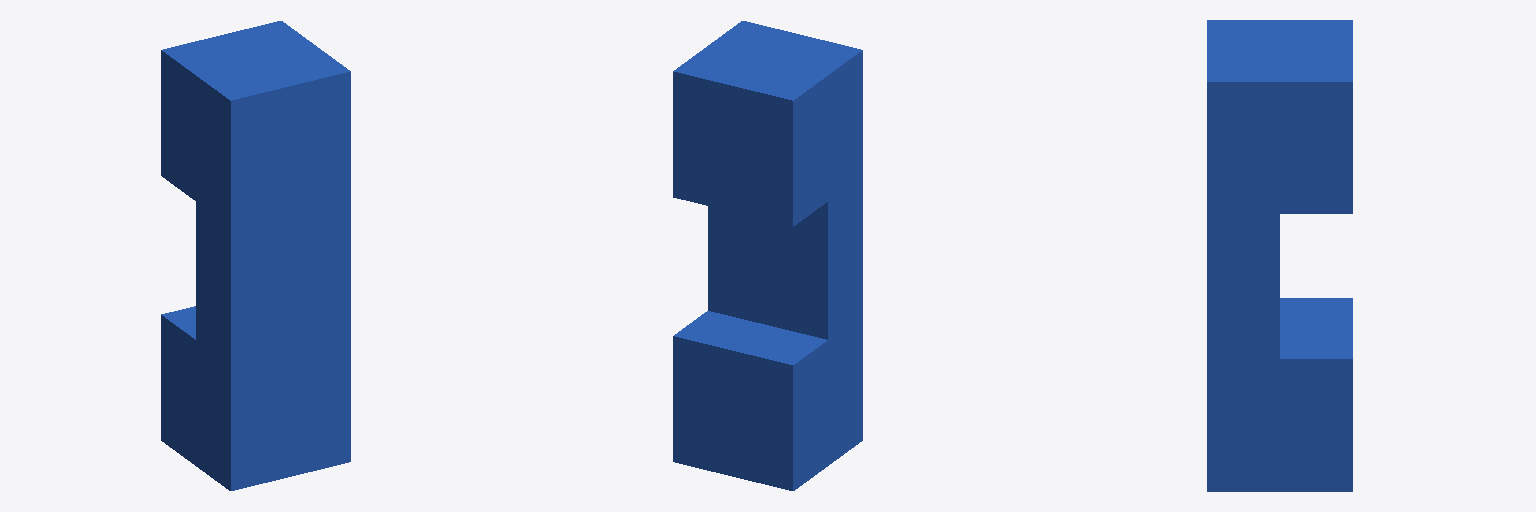
robot.urdf — obj_11:
<robot name="obj_11" version="1.0">
  <link name="obj_11">
    <collision name="short-piece-1-collision.001">
      <origin rpy="0.00000 0.00000 0.00000" xyz="0.00000 0.00000 0.00000"/>
      <geometry>
        <mesh filename="../meshes/obj/short-piece-1-collision.001.obj" scale="1.00000 1.00000 1.00000"/>
      </geometry>
    </collision>
    <collision name="short-piece-1-collision.002">
      <origin rpy="0.00000 0.00000 0.00000" xyz="0.00000 0.00000 0.00000"/>
      <geometry>
        <mesh filename="../meshes/obj/short-piece-1-collision.002.obj" scale="1.00000 1.00000 1.00000"/>
      </geometry>
    </collision>
    <collision name="short-piece-1-collision.003">
      <origin rpy="0.00000 0.00000 0.00000" xyz="0.00000 0.00000 0.00000"/>
      <geometry>
        <mesh filename="../meshes/obj/short-piece-1-collision.003.obj" scale="1.00000 1.00000 1.00000"/>
      </geometry>
    </collision>
    <inertial>
      <inertia ixx="0.00001" ixy="-0.00000" ixz="0.00000" iyy="0.00001" iyz="-0.00000" izz="0.00000"/>
      <origin rpy="0.00000 0.00000 0.00000" xyz="-0.30669 0.18540 0.17998"/>
      <mass value="0.00300"/>
    </inertial>
    <visual name="short-piece-1">
      <material name="turnarrow"/>
      <origin rpy="-1.57080 1.57080 0.00000" xyz="-0.30669 0.19434 0.17998"/>
      <geometry>
        <mesh filename="../meshes/obj/short-piece.001.obj" scale="0.00500 0.00500 0.00500"/>
      </geometry>
    </visual>
  </link>
  <material name="turnarrow">
    <color rgba="0.23137 0.44706 0.80000 1.00000"/>
  </material>
</robot>

--- What the picture shows (computed from the rendered views, not written in the file) ---
Views: 3 orthographic renders of the robot side by side, from view 1: azimuth 30°, elevation 25°; view 2: azimuth 150°, elevation 25°; view 3: azimuth 270°, elevation 25°.
Model obj_11 with 1 links and 0 joints (none), rooted at obj_11, posed every joint at zero.
Links seen in each view (by area): view 1: obj_11; view 2: obj_11; view 3: obj_11.
Boxes of the visible links, x1,y1,x2,y2 form: obj_11: (161,21,350,490); obj_11: (673,21,862,490); obj_11: (1207,20,1352,491).
Bounding box of the posed robot: 0.05 × 0.05 × 0.155 m (x, y, z).
Meshes: 1 distinct files referenced, 1 mesh visuals loaded (1 OBJ).